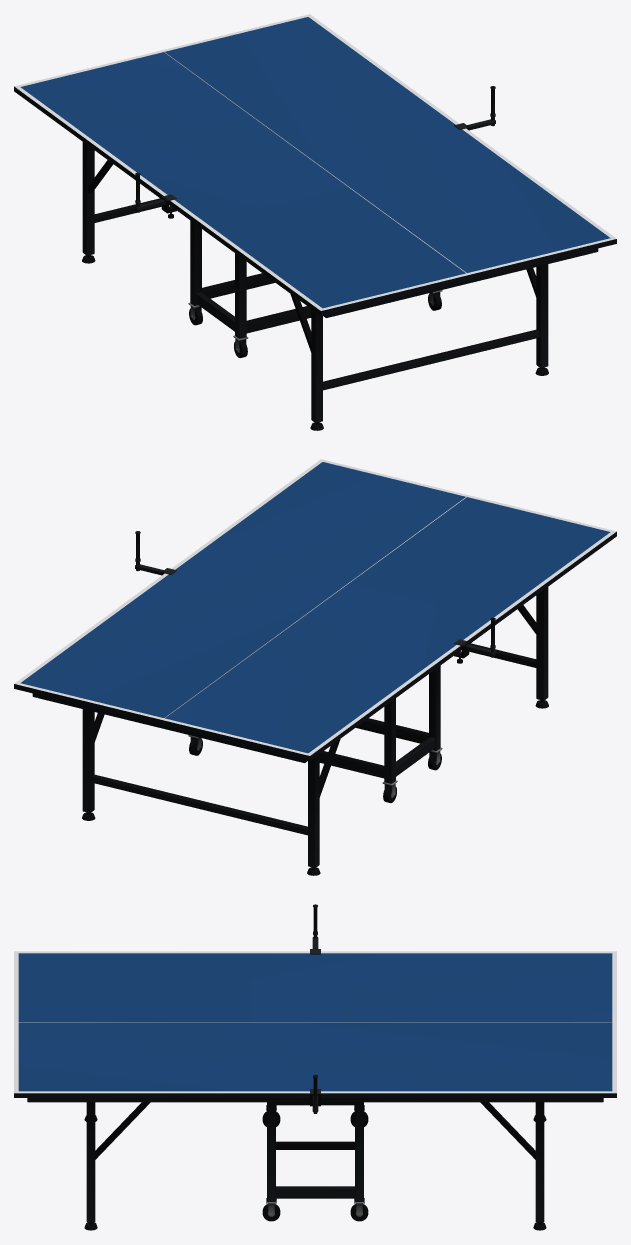
Rendered from table.glb.
3 views of the same model, one above another, from view 1: azimuth 30°, elevation 25°; view 2: azimuth 150°, elevation 25°; view 3: azimuth 270°, elevation 25° (orthographic).
Parts seen in each view (by area): view 1: table_top, table_frame; view 2: table_top, table_frame; view 3: table_top, table_frame.
Part boxes in pixels (x1=…): table_top: x1=14, y1=14, x2=616, y2=315; table_frame: x1=82, y1=142, x2=598, y2=430; table_top: x1=14, y1=459, x2=616, y2=760; table_frame: x1=32, y1=587, x2=548, y2=875; table_top: x1=14, y1=951, x2=616, y2=1097; table_frame: x1=27, y1=1098, x2=603, y2=1230.
Bounding box in the file's own units: 1.85 × 0.9185 × 2.74.
